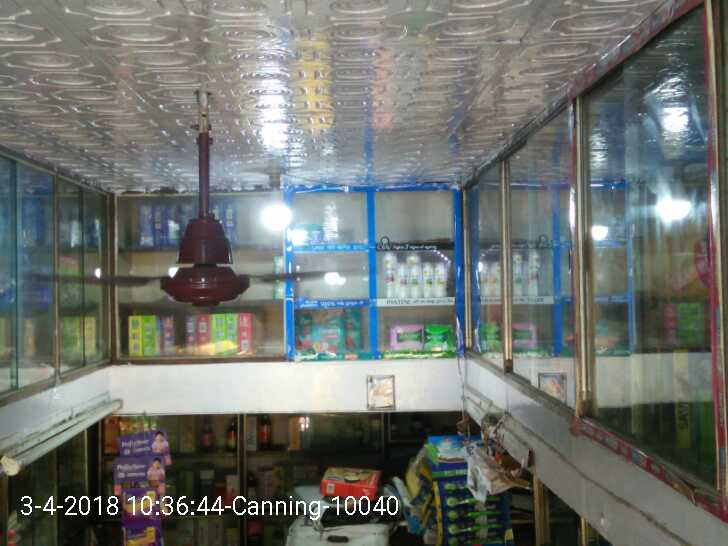oralcare: (430, 440, 511, 546)
